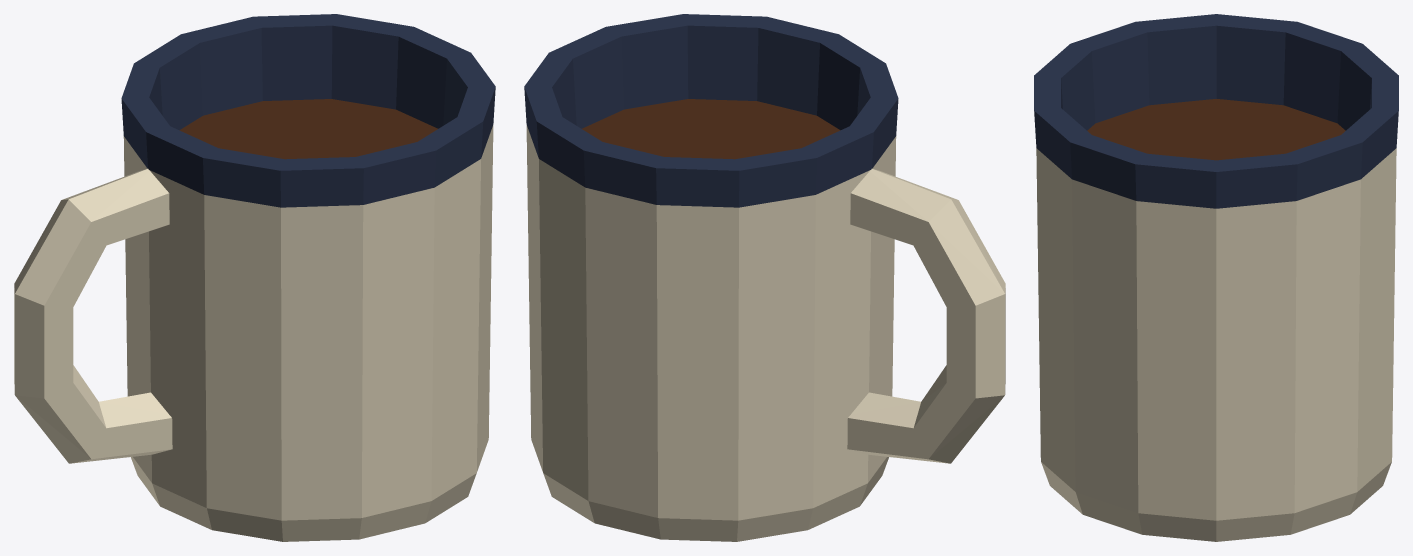
File: CoffeeCup.obj
3 renders of one model, left to right at view 1: azimuth 30°, elevation 25°; view 2: azimuth 150°, elevation 25°; view 3: azimuth 270°, elevation 25°, orthographic.
Parts seen in each view (by area): view 1: CoffeeCup; view 2: CoffeeCup; view 3: CoffeeCup.
Boxes of the visible parts, bbox=[...] form: CoffeeCup: bbox=[14, 14, 495, 541]; CoffeeCup: bbox=[524, 14, 1005, 541]; CoffeeCup: bbox=[1034, 14, 1398, 541].
Bounding box in the file's own units: 0.1137 × 0.09 × 0.079.
